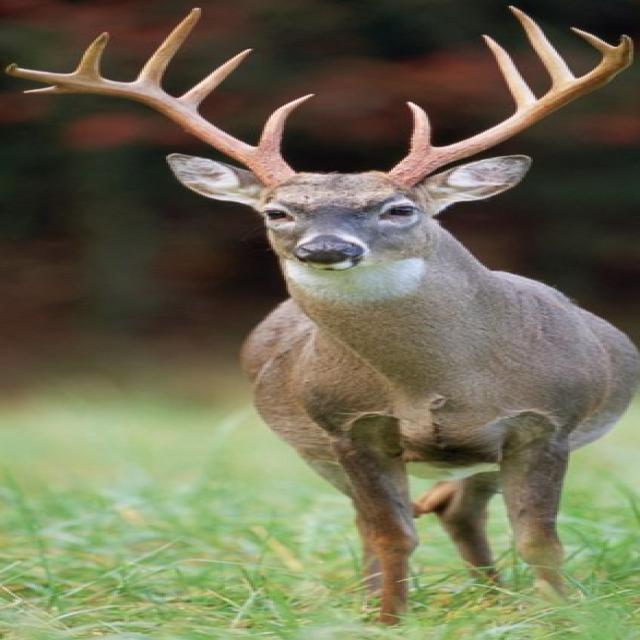E1: (21, 85, 90, 95)
L-F: (382, 33, 635, 190)
L-G1: (404, 100, 433, 154)
L-G2: (480, 33, 537, 110)
L-G3: (507, 5, 576, 88)
L-G4: (570, 26, 617, 58)
R-F: (3, 63, 300, 189)
R-G1: (258, 93, 315, 154)
R-G2: (179, 48, 254, 111)
R-G3: (134, 7, 202, 87)
R-G4: (72, 31, 110, 78)
